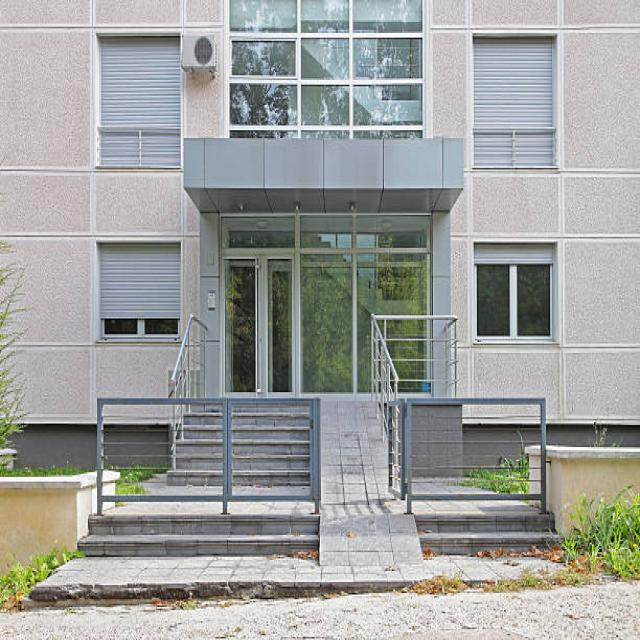AVOID: (74, 511, 318, 559), (168, 406, 312, 483), (416, 512, 568, 559)
CLIMB: (317, 398, 423, 566)
